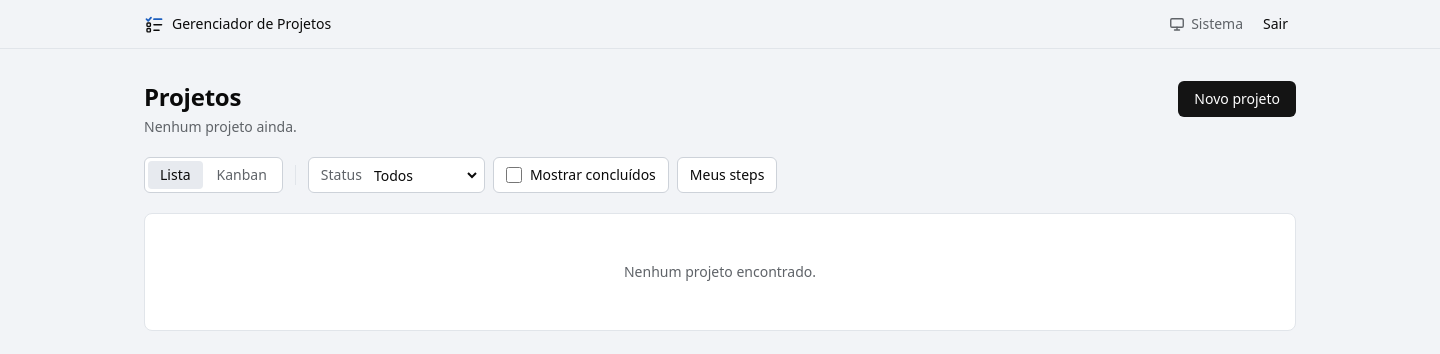
Test: App › alterna para Kanban com as três colunas
Click the button "Kanban". click: x=242, y=175
box: [205, 161, 279, 189]
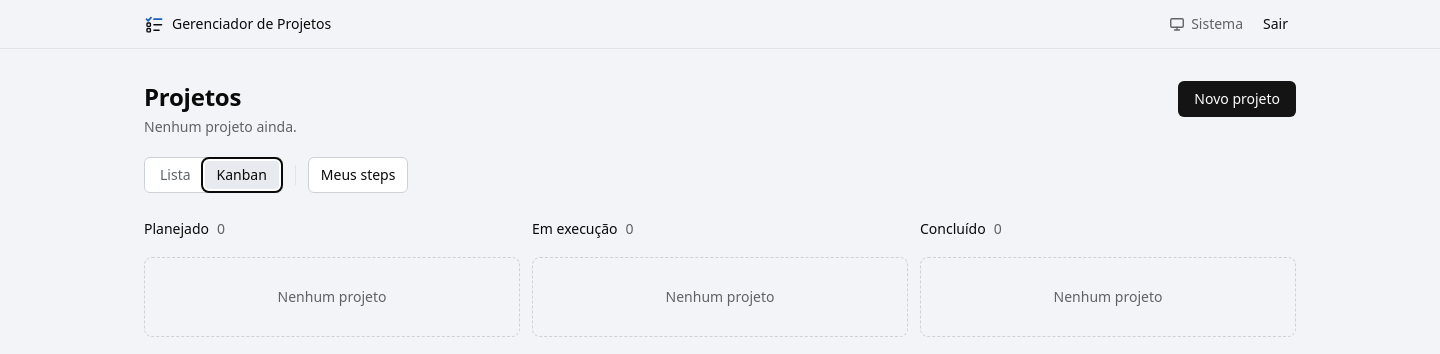
Expected: the heading "Planejado 0" is shown, [144, 219, 225, 238]
Expected: the heading "Em execução 0" is shown, [532, 219, 634, 238]
Expected: the heading "Concluído 0" is shown, [920, 219, 1002, 238]
